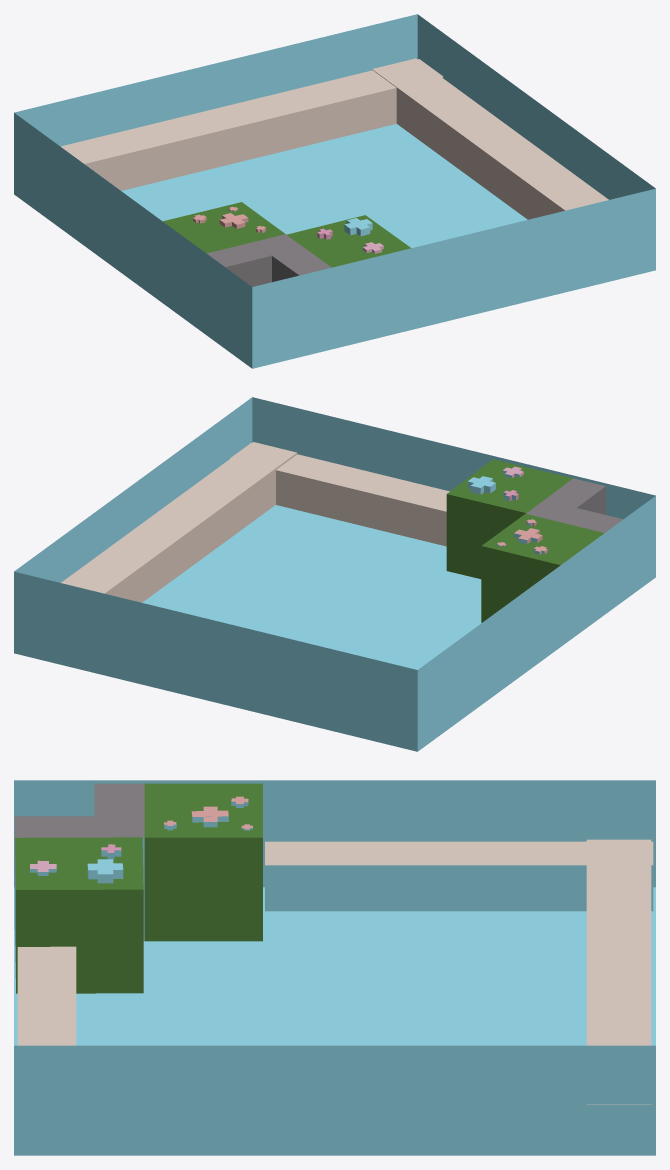
File: chuyx.fbx
3 renders of one model, top to bottom at view 1: azimuth 30°, elevation 25°; view 2: azimuth 150°, elevation 25°; view 3: azimuth 270°, elevation 25°, orthographic. The views are drawn at different scales.
Parts seen in each view (by area): view 1: Cube, Cube.007, Cube.006, Cube.005, Cube.004; view 2: Cube, Cube.007, Cube.006, Cube.005; view 3: Cube, Cube.006, Cube.007, Cube.005, Cube.004.
Boxes of the visible parts, x1,y1,x2,y2 form: Cube: (14, 14, 655, 368); Cube.007: (60, 58, 608, 219); Cube.006: (163, 202, 411, 267); Cube.005: (207, 234, 331, 286); Cube.004: (193, 207, 265, 232); Cube: (14, 397, 655, 751); Cube.007: (61, 442, 449, 602); Cube.006: (446, 459, 604, 622); Cube.005: (525, 478, 622, 532); Cube: (14, 780, 655, 1155); Cube.006: (15, 783, 262, 993); Cube.007: (17, 839, 653, 1104); Cube.005: (14, 783, 144, 837); Cube.004: (164, 796, 252, 829).
Size of the model in its own units: 992 by 202 by 1013.
